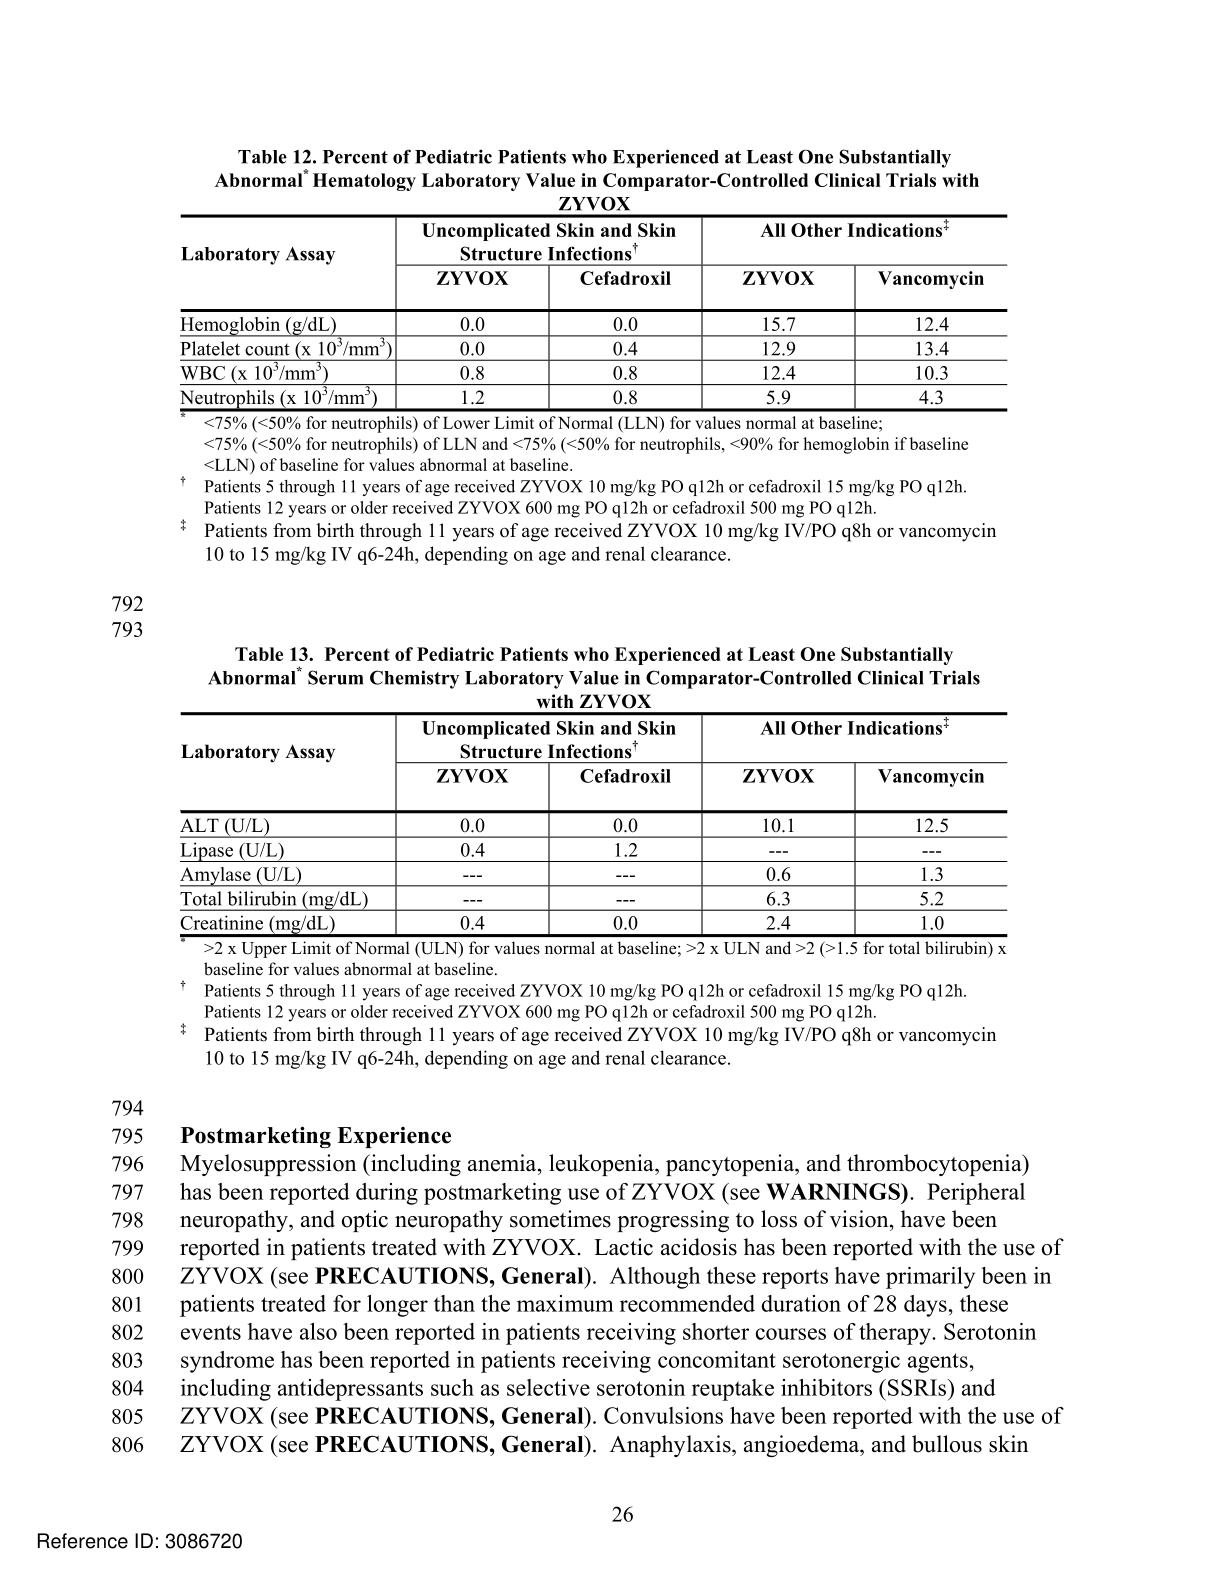partial_lined_merged_cells: (177, 711, 1009, 939), (179, 212, 1011, 413)
